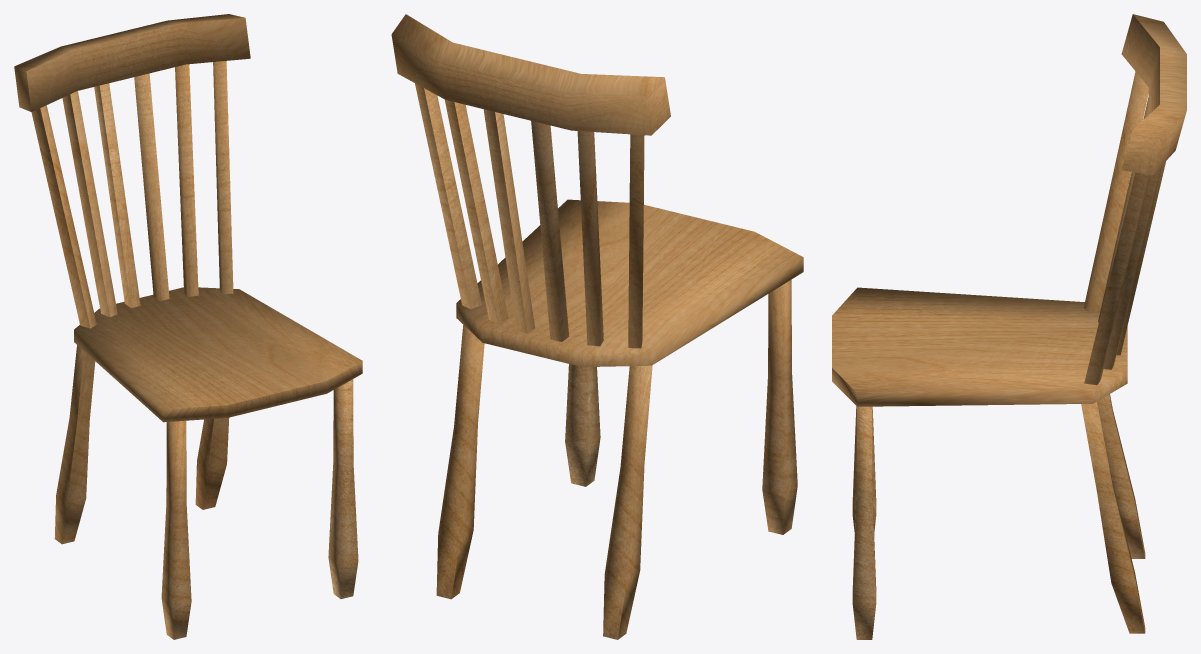
Rendered from ChairS.fbx.
3 views of the same model, side by side, from view 1: azimuth 30°, elevation 25°; view 2: azimuth 150°, elevation 25°; view 3: azimuth 270°, elevation 25° (orthographic). The views are drawn at different scales.
Visible parts, largest first — view 1: ChairS; view 2: ChairS; view 3: ChairS.
Boxes of the visible parts, x1,y1,x2,y2 form: ChairS: (14, 14, 362, 639); ChairS: (391, 14, 803, 639); ChairS: (832, 14, 1186, 639).
Size of the model in its own units: 0.5712 by 1.2 by 0.739.
